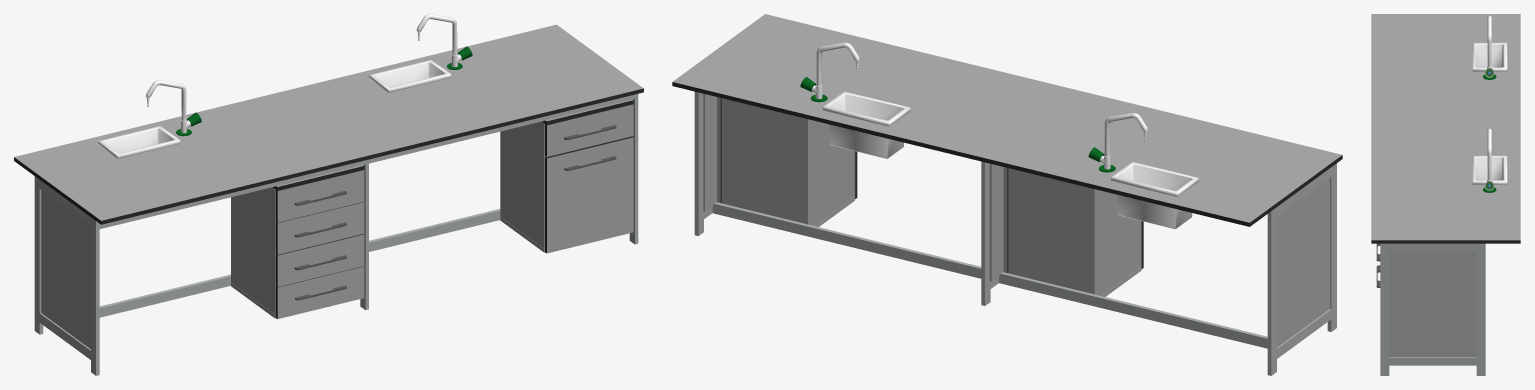
File: Table 2.FBX
3 views of the same model, side by side, from view 1: azimuth 30°, elevation 25°; view 2: azimuth 150°, elevation 25°; view 3: azimuth 270°, elevation 25° (orthographic). The views are drawn at different scales.
Parts seen in each view (by area): view 1: Table 2, tap 1, tap 2; view 2: Table 2, tap 2, tap 1; view 3: Table 2, tap 2, tap 1.
Boxes of the visible parts, x1,y1,x2,y2 form: Table 2: (14, 24, 643, 375); tap 1: (98, 80, 201, 158); tap 2: (368, 14, 472, 92); Table 2: (672, 14, 1342, 375); tap 2: (800, 42, 910, 158); tap 1: (1088, 113, 1198, 229); Table 2: (1371, 14, 1520, 375); tap 2: (1472, 128, 1507, 192); tap 1: (1472, 15, 1507, 79).
Size of the model in its own units: 106 by 29.43 by 40.56.
